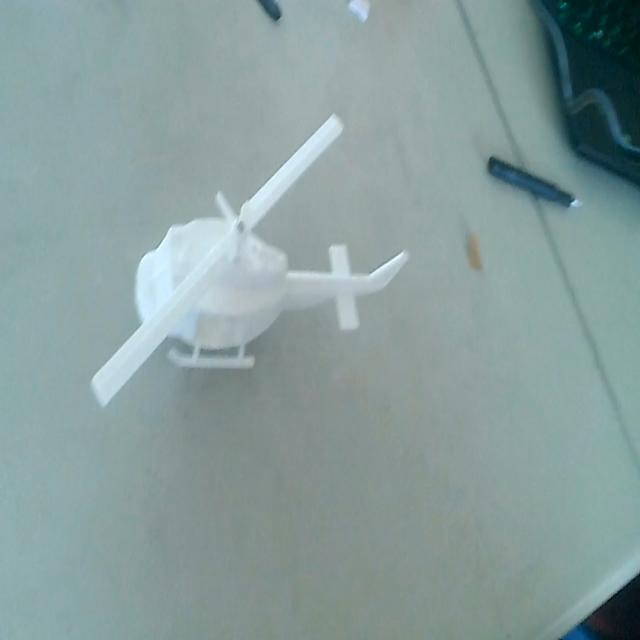Helicopter: (87, 107, 409, 415)
